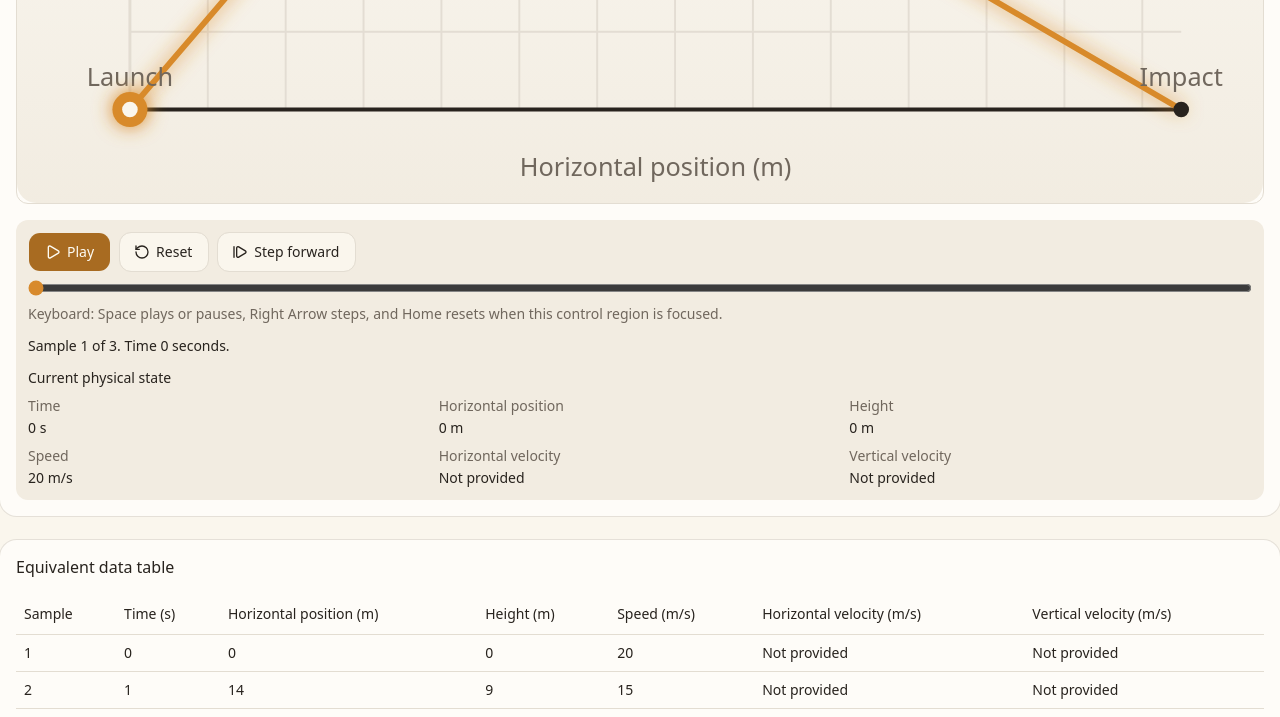
Test: accessible simulation preview › supports labeled pointer and keyboard controls with announced current data
The image size is (1280, 717).
(page scrolled)
Expected: the button with aria-label "Play simulation" is enabled, [28, 232, 111, 272]
Press ArrowRight in the element named "Playback controls", box [16, 220, 1264, 500]
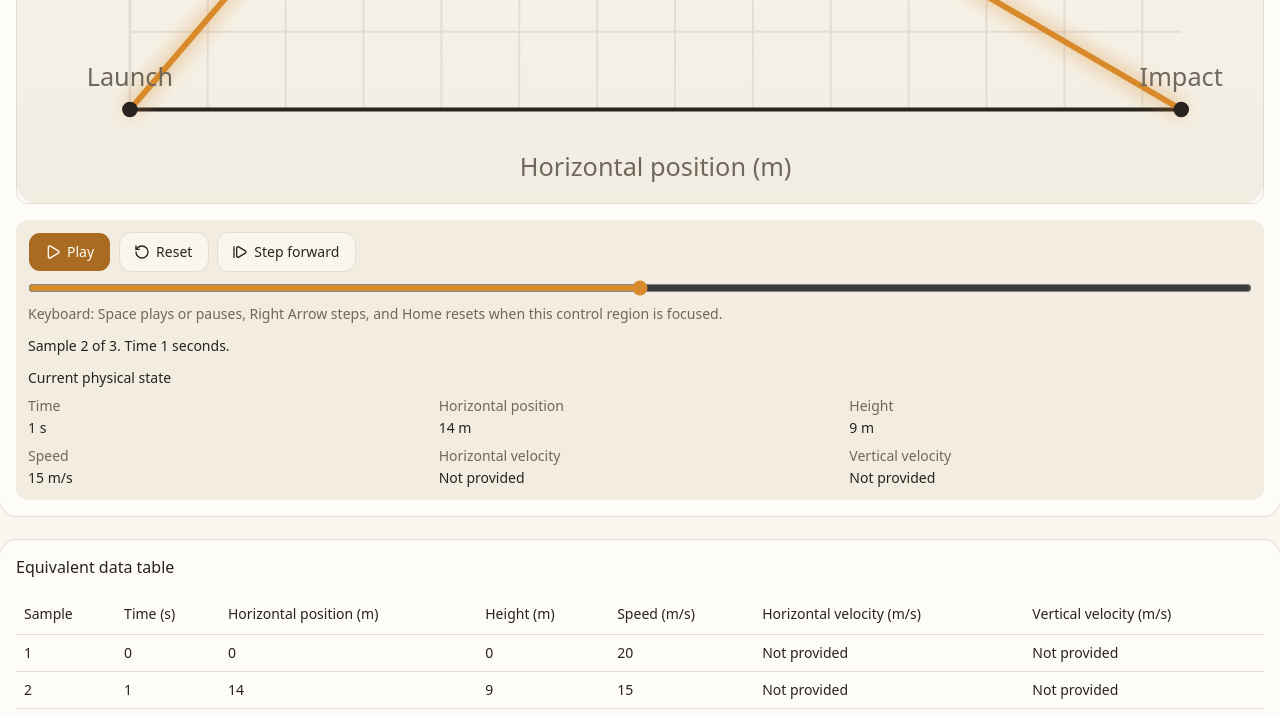
Expected: the message reads "Sample 2 of 3. Time 1 seconds.", [28, 336, 230, 355]
Expected: the text "14 m" is shown, [439, 418, 472, 437]
Expected: the text "9 m" is shown, [849, 418, 874, 437]
Click the button with aria-label "Reset simulation".
click(164, 252)  # box [119, 232, 209, 272]
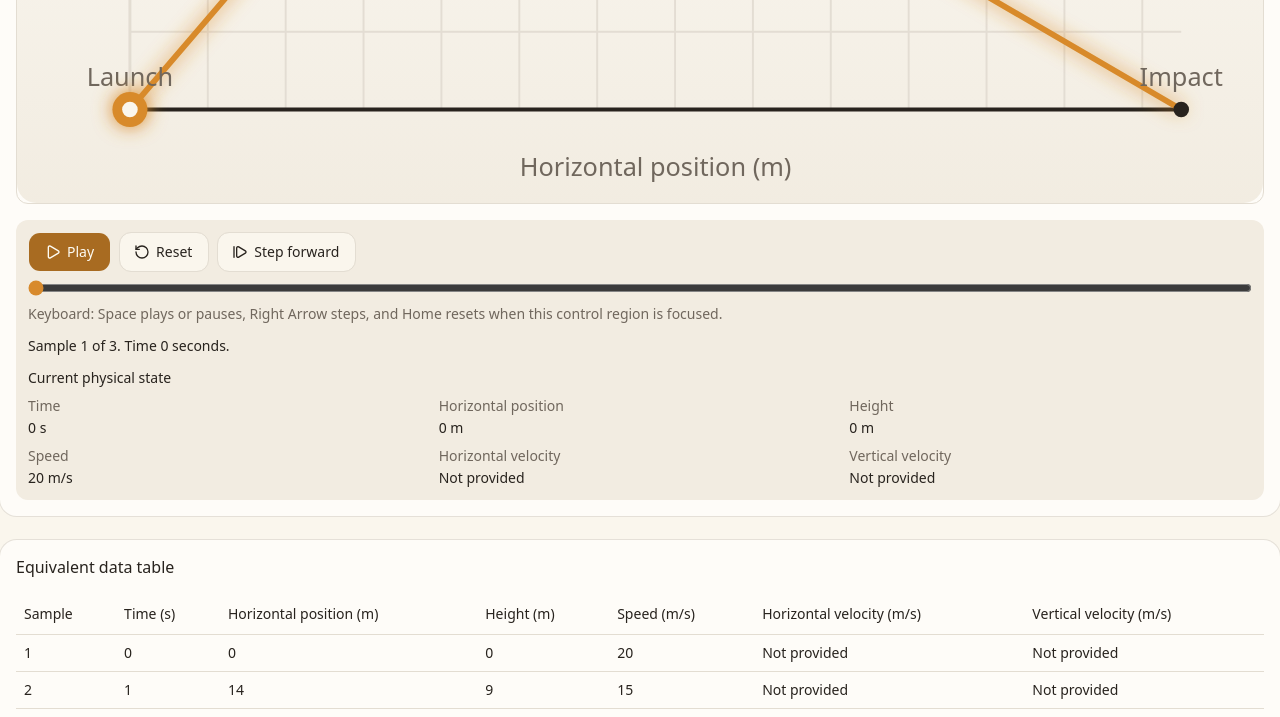
Expected: the message reads "Sample 1 of 3. Time 0 seconds.", [28, 336, 230, 355]
Press Space in the element named "Playback controls", box [16, 220, 1264, 500]
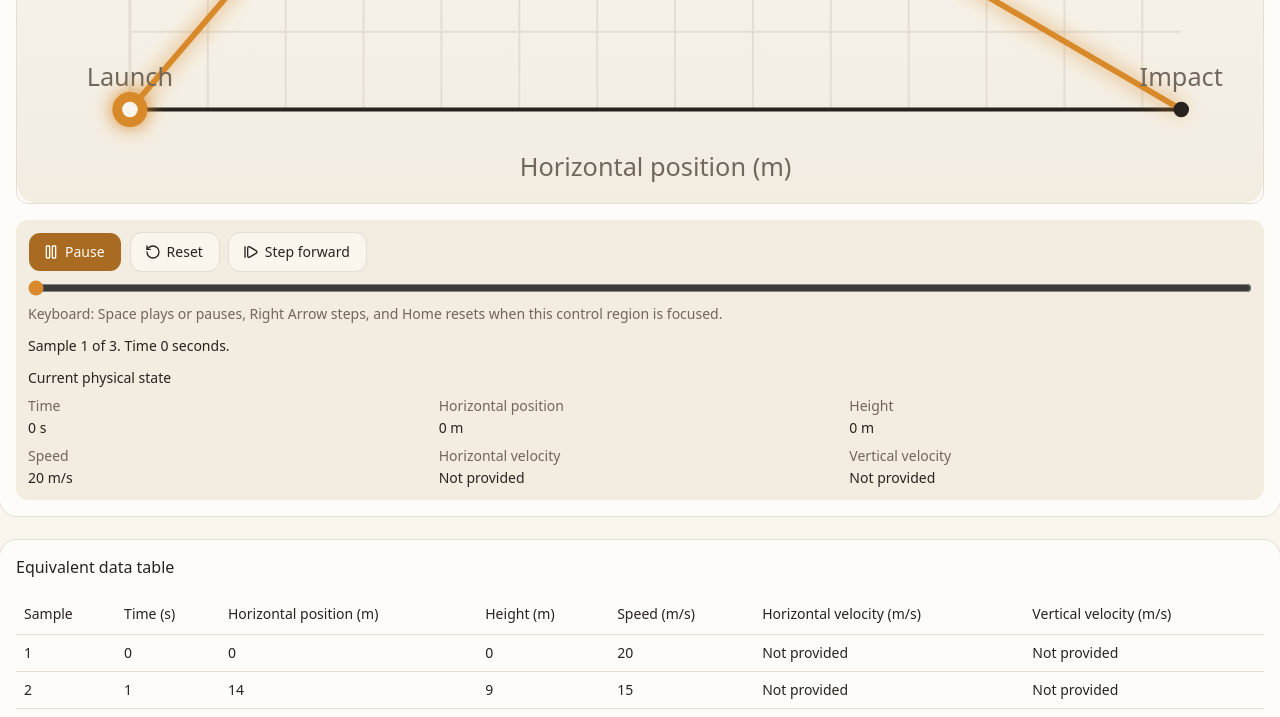
Expected: the button with aria-label "Pause simulation" is shown, [28, 232, 122, 272]
Press Space in the element named "Playback controls", box [16, 220, 1264, 500]
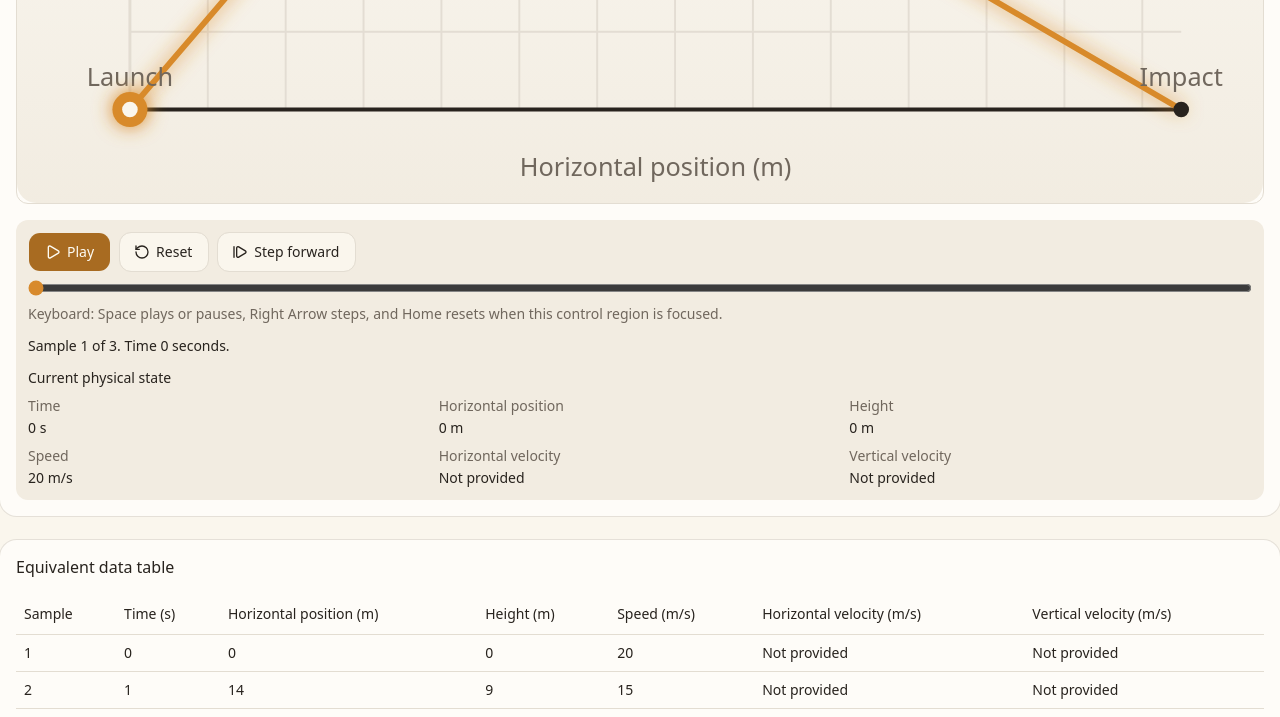
Expected: the button with aria-label "Play simulation" is shown, [28, 232, 111, 272]
